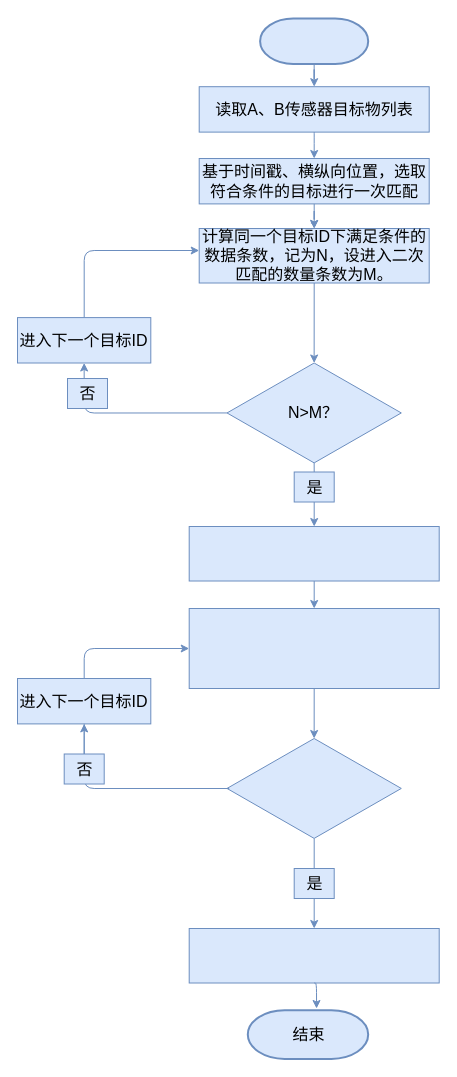
Some shapes in this 457 by 1077 pixel diagram are drawn without their labels. Here are the shapes that lost their labels. From the top down, the centre of each, then its label:
(314,40): 开始
(313,553): 进入二次匹配
(313,648): 计算A、B传感器同一个匹配目标ID下所有数据的横纵向距离标准差E，设满足条件的标准差范围为L-H
(313,788): L<E<H？
(313,955): 匹配成功，保存A、B传感器的匹配关系
